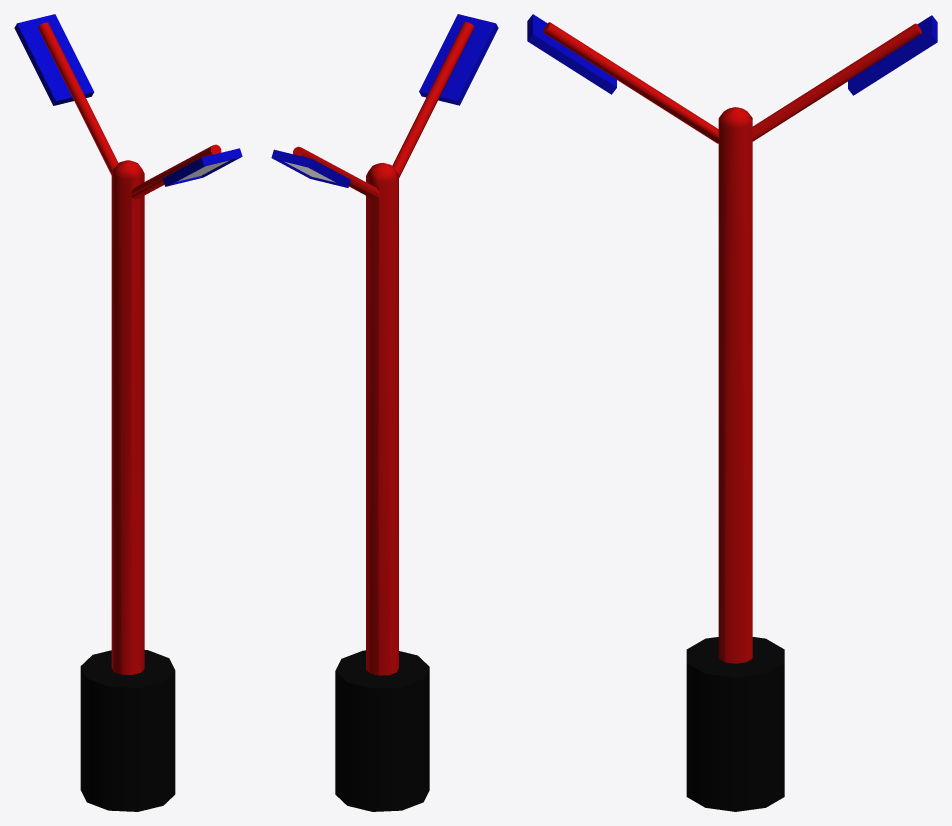
The model's file is power line.dae.
3 views of the same model, side by side, from view 1: azimuth 30°, elevation 25°; view 2: azimuth 150°, elevation 25°; view 3: azimuth 270°, elevation 25° (orthographic). The views are drawn at different scales.
Visible parts, largest first — view 1: power_line; view 2: power_line; view 3: power_line.
Part boxes in pixels (x1,y1,x2,y2): power_line: [14, 14, 242, 811]; power_line: [271, 14, 498, 811]; power_line: [527, 14, 937, 811].
Bounding box in the file's own units: 1.5 × 12.37 × 5.99.
